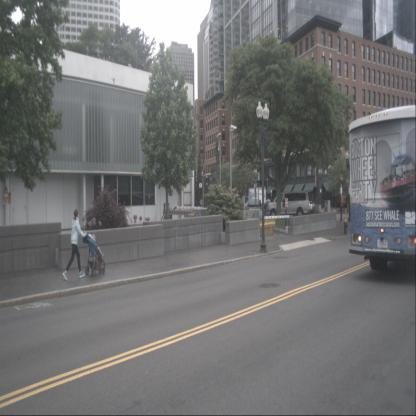cone: (345, 208, 347, 214)
